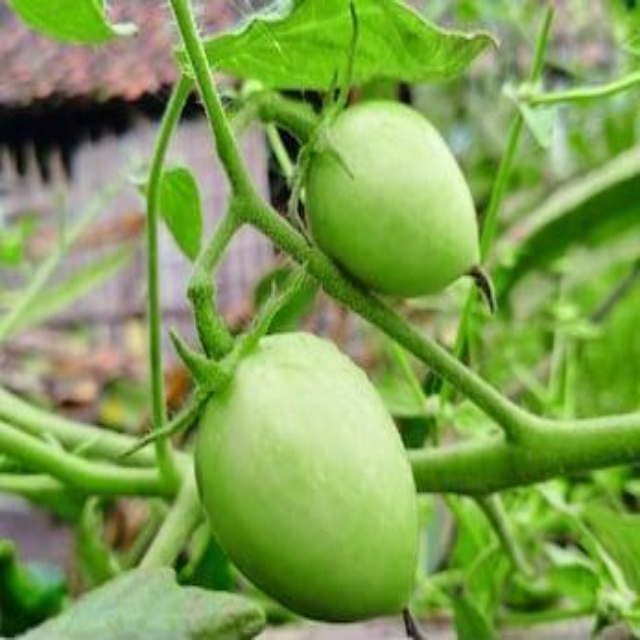tomato: (170, 338, 439, 623), (289, 94, 497, 310)
